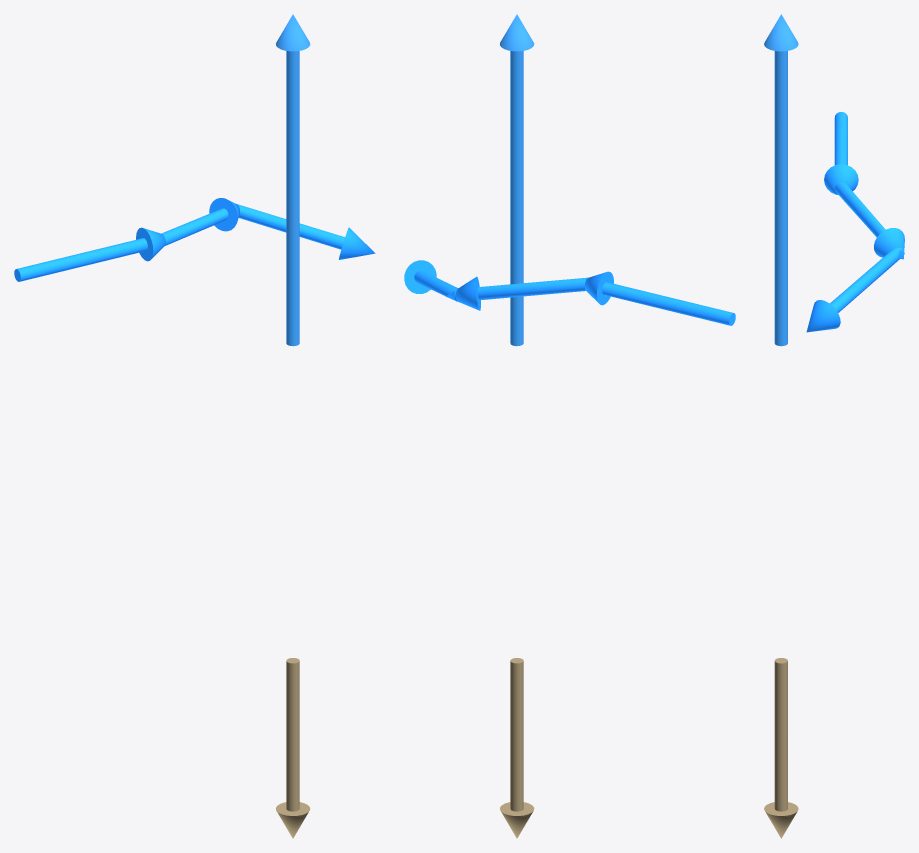
Rendered from sand_trap_flow.glb.
3 views of the same model, side by side, from view 1: azimuth 30°, elevation 25°; view 2: azimuth 150°, elevation 25°; view 3: azimuth 270°, elevation 25° (orthographic).
Parts seen in each view (by area): view 1: inlet, clean_outlet, sand_dump; view 2: inlet, clean_outlet, sand_dump; view 3: clean_outlet, inlet, sand_dump.
Part boxes in pixels (bbox=[...]): inlet: bbox=[14, 198, 375, 281]; clean_outlet: bbox=[276, 14, 310, 346]; sand_dump: bbox=[276, 658, 310, 838]; inlet: bbox=[404, 260, 735, 325]; clean_outlet: bbox=[500, 14, 534, 346]; sand_dump: bbox=[500, 658, 534, 838]; clean_outlet: bbox=[764, 14, 798, 346]; inlet: bbox=[806, 112, 904, 332]; sand_dump: bbox=[764, 658, 798, 838].
Size of the model in its own units: 1.18 by 2.73 by 0.4228.
